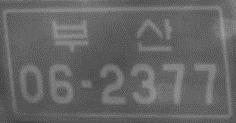-: (76, 77, 97, 91)
0: (18, 61, 44, 106)
2: (97, 62, 127, 105)
3: (129, 60, 157, 107)
6: (46, 62, 74, 105)
7: (159, 61, 187, 107), (191, 60, 218, 107)
부산_D: (49, 14, 174, 54)
